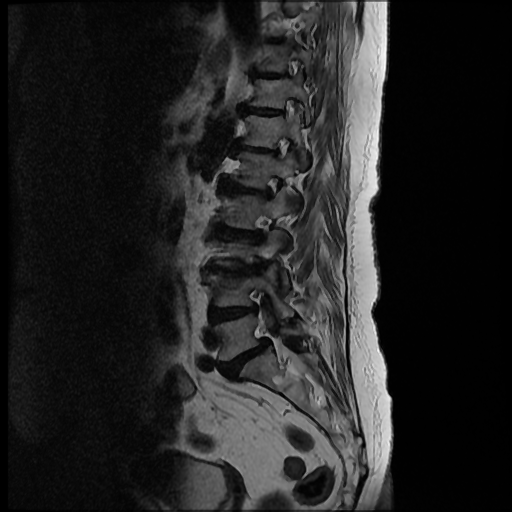LFS1: (244, 208, 274, 250)
LFS2: (250, 169, 288, 211)
